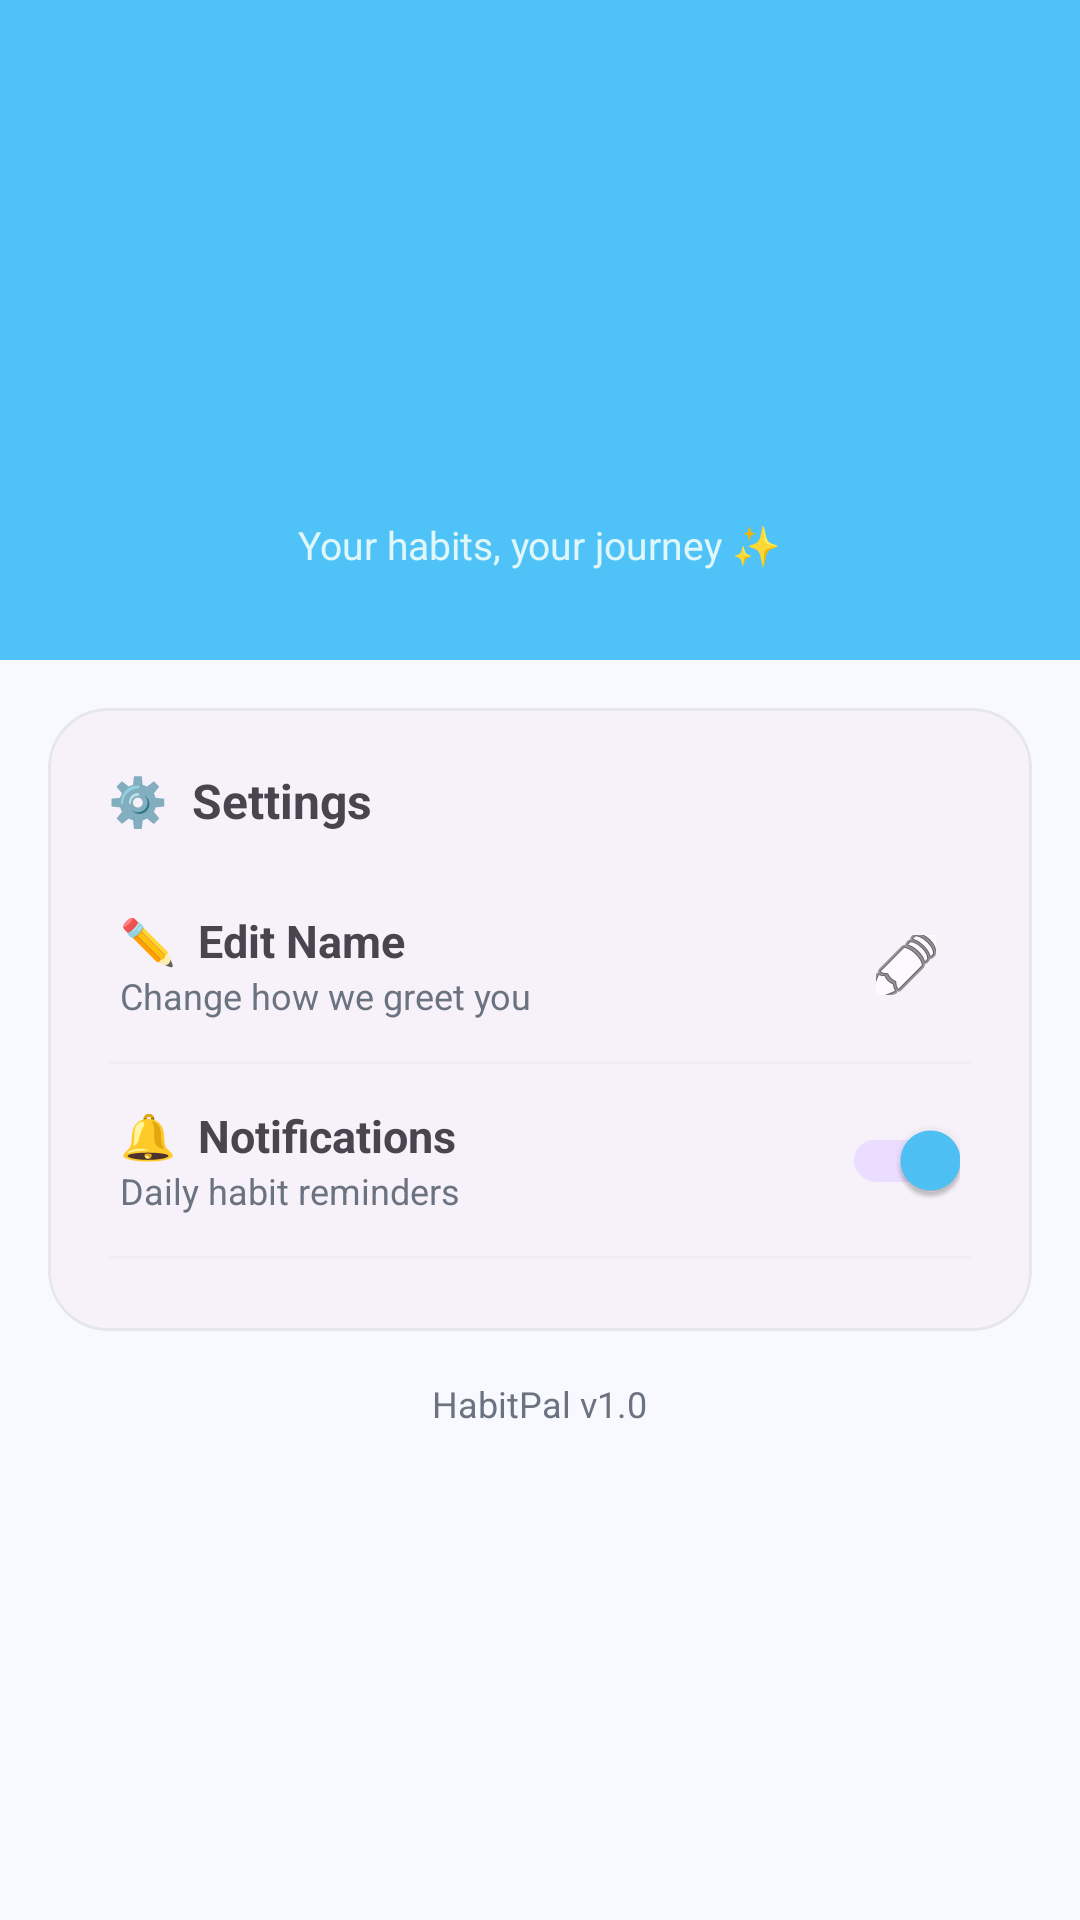

Locate icon controls on the screen. Image size 1080 × 1920, boxes as box=[x1, y1, x2, y2].
Edit name: box=[876, 935, 936, 995]
